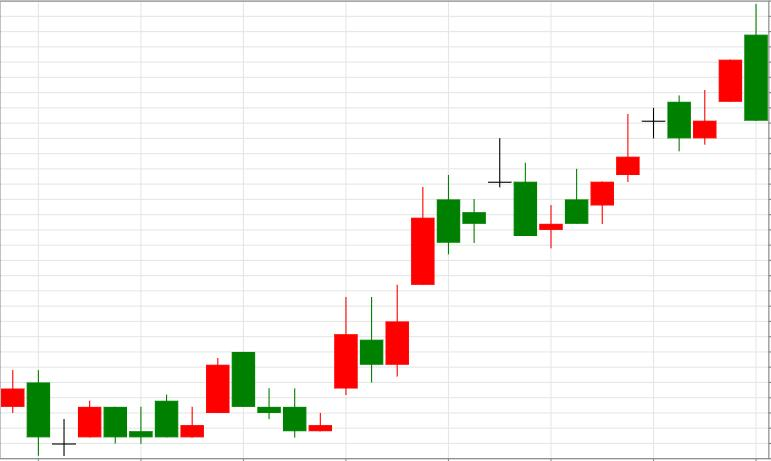bearish_engulfing_fall: (590, 4, 768, 224)
